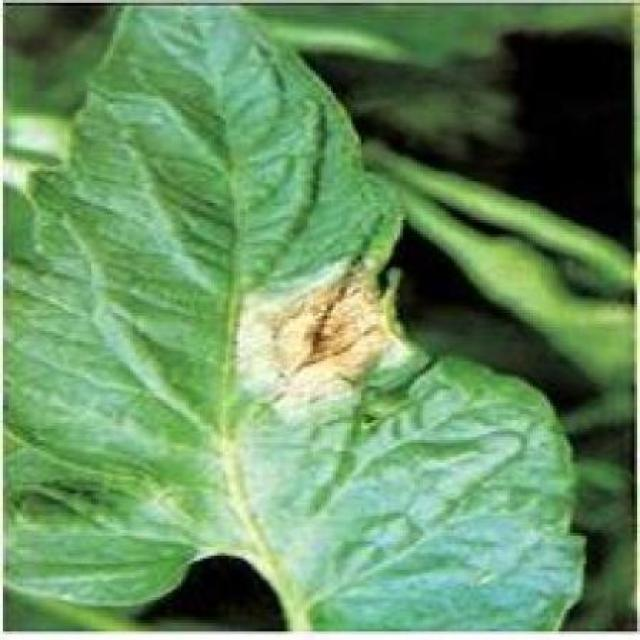Late Blight: (3, 2, 593, 634)
